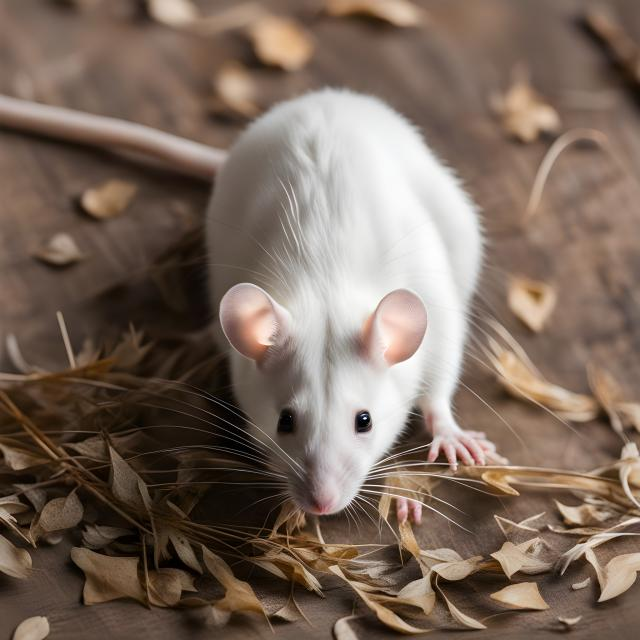rodents: (188, 72, 516, 536)
